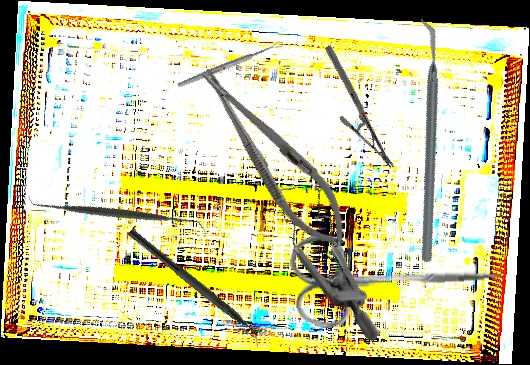Chopper: (328, 15, 524, 265), (119, 227, 270, 352)
Iris Scissors: (288, 224, 507, 330)
Needle Holder: (185, 53, 363, 261), (289, 43, 430, 171)
Spatula Surgical: (27, 124, 206, 303)
Speculum: (238, 163, 432, 343)
Surgical Spoon: (176, 40, 285, 89)
